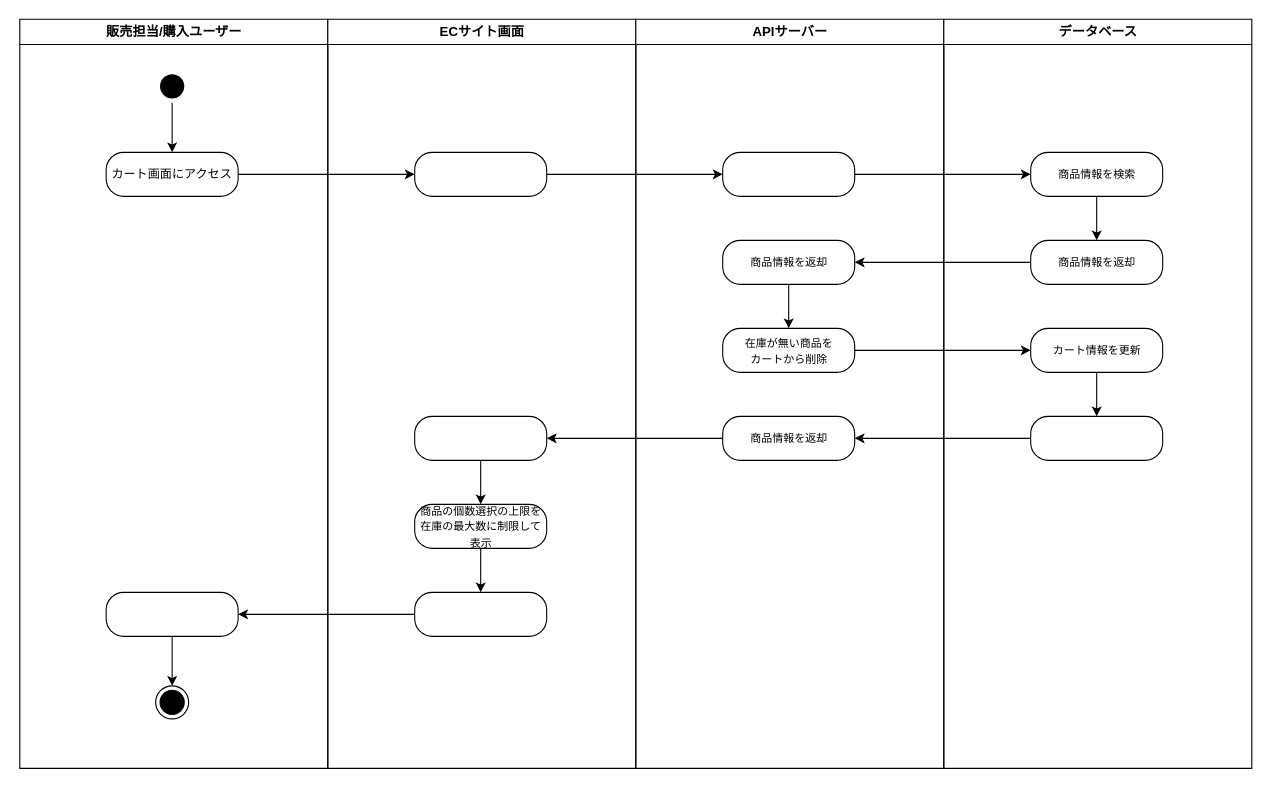
Some shapes in this 1271 by 788 pixel diagram are drawn without their labels. The centre of each missing label's shape, as x and y in pixels:
カートに入っている商品の情報を取得するAPI リクエストを送信: [480,173]
カートの中身の個数を 更新して表示: [480,613]
商品情報を取得: [788,173]
在庫が無い商品をカートから削除した旨の メッセージを表示: [480,437]
更新完了のレスポンス を返却: [1096,437]
画面の表示を確認: [171,613]
